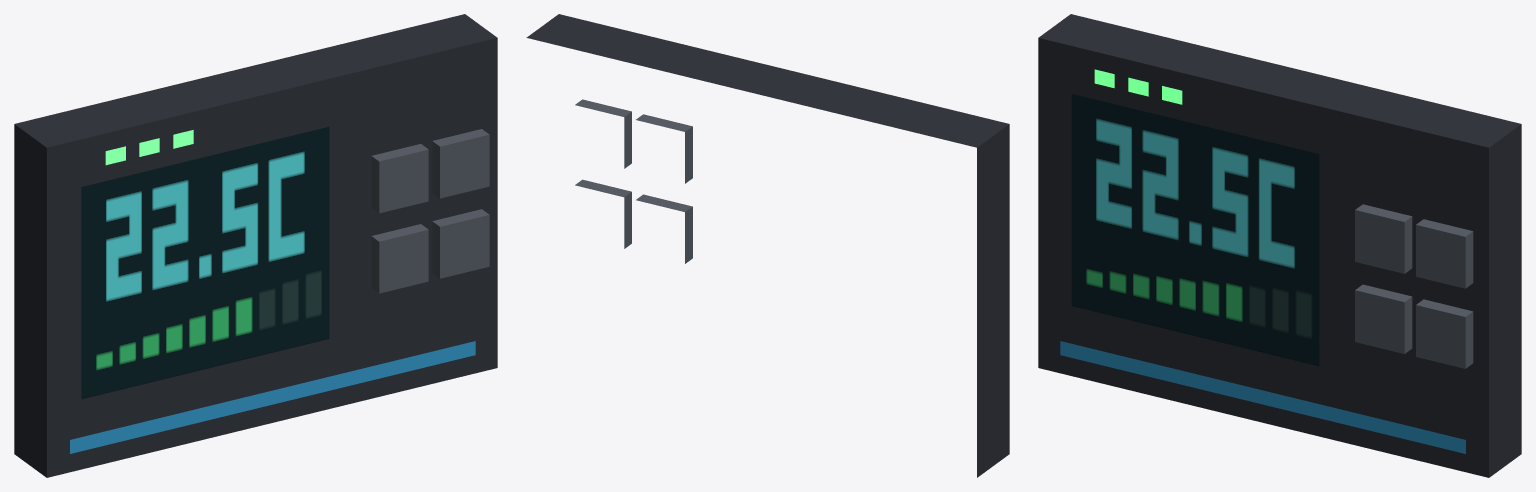
Rendered from Cooling_ControlPanel.glb.
3 views of the same model, side by side, from view 1: azimuth 30°, elevation 25°; view 2: azimuth 150°, elevation 25°; view 3: azimuth 330°, elevation 25° (orthographic).
Visible parts, largest first — view 1: Cooling_ControlPanel; view 2: Cooling_ControlPanel; view 3: Cooling_ControlPanel.
Part boxes in pixels (x1=…): Cooling_ControlPanel: x1=14, y1=14, x2=497, y2=477; Cooling_ControlPanel: x1=526, y1=14, x2=1009, y2=477; Cooling_ControlPanel: x1=1038, y1=14, x2=1521, y2=477.
Size of the model in its own units: 0.2 by 0.14 by 0.031.
2 materials, 1 textured.
